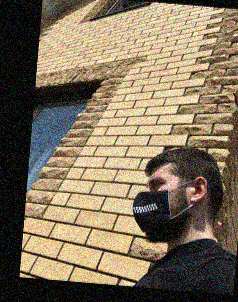with_mask: (132, 168, 175, 243)
